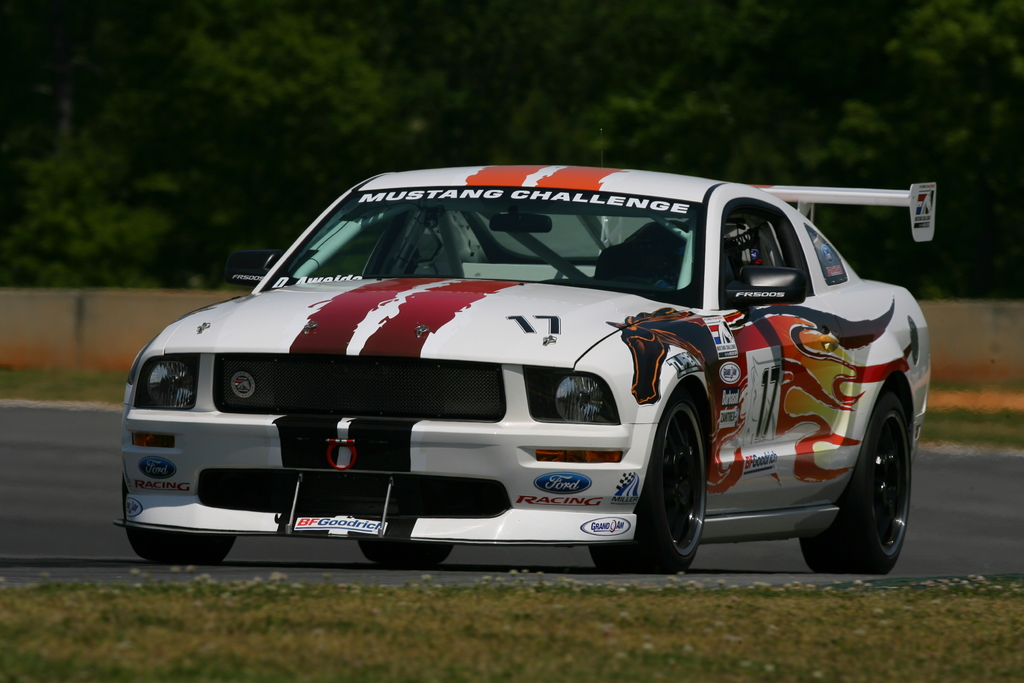Car: (94, 142, 954, 590)
